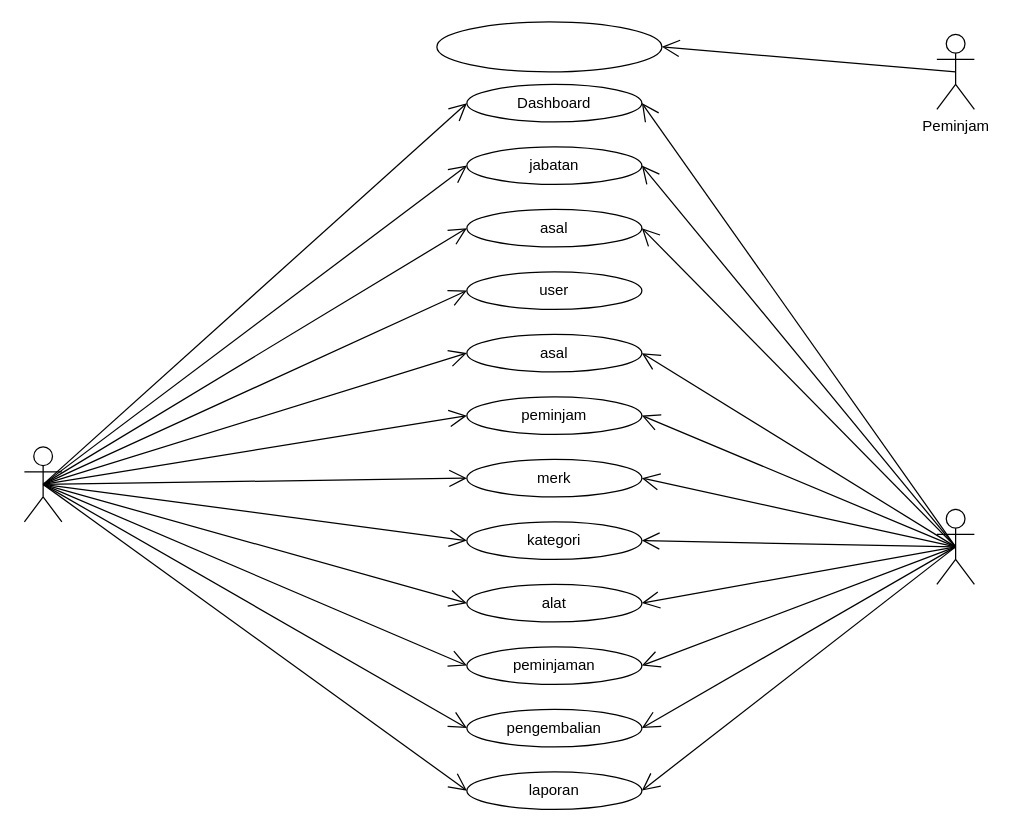
Some shapes in this 1010 by 831 pixel diagram are drawn without their labels. Here are the shapes that lost their labels. From the top down, the centre of each, then its label:
the point at 549,46: Dashboardpeminjam
the point at 42,484: Admin
the point at 955,546: Petugas
